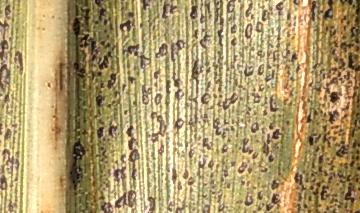tarspot: (69, 163, 87, 195), (169, 39, 185, 63), (150, 116, 167, 138), (71, 137, 86, 161), (126, 188, 138, 213), (221, 92, 238, 109), (121, 43, 140, 58), (216, 17, 225, 48), (140, 83, 152, 106), (13, 49, 24, 74), (137, 53, 152, 71), (113, 191, 128, 209), (154, 42, 169, 59), (70, 16, 81, 39), (1, 63, 10, 91), (211, 71, 223, 92), (322, 1, 334, 21), (198, 33, 212, 50), (201, 136, 215, 153), (241, 135, 252, 156), (267, 93, 278, 114), (211, 117, 223, 136), (326, 108, 340, 124), (190, 58, 200, 80), (308, 1, 318, 23), (145, 195, 157, 213), (126, 135, 139, 151), (171, 71, 183, 88), (1, 38, 9, 63), (215, 193, 225, 213), (318, 182, 328, 202), (344, 185, 355, 203), (5, 156, 19, 170), (270, 191, 283, 206), (236, 159, 248, 175), (319, 132, 331, 148), (264, 40, 274, 59), (106, 72, 117, 89), (196, 153, 207, 170), (243, 190, 254, 207), (338, 40, 355, 51), (119, 19, 133, 32), (127, 149, 141, 162), (125, 124, 137, 139), (199, 112, 211, 127), (7, 197, 18, 213), (108, 123, 119, 139), (345, 52, 354, 71), (243, 22, 253, 39), (275, 1, 285, 18), (249, 91, 262, 104), (335, 145, 348, 158), (130, 161, 138, 182), (3, 4, 13, 20), (100, 201, 113, 213), (272, 128, 284, 141), (327, 191, 339, 204), (243, 63, 254, 77), (329, 90, 340, 104), (174, 117, 183, 134), (83, 7, 91, 26), (2, 127, 12, 142), (189, 4, 199, 19), (119, 165, 129, 180), (261, 140, 271, 155), (1, 19, 9, 37), (215, 48, 224, 64), (245, 1, 254, 17), (321, 84, 330, 100), (225, 1, 236, 14), (1, 172, 8, 192), (254, 21, 264, 35), (250, 121, 260, 135), (193, 78, 201, 95), (112, 168, 121, 183), (348, 25, 357, 40), (170, 166, 177, 185), (275, 24, 282, 43), (140, 1, 152, 12), (200, 92, 211, 104), (168, 2, 178, 15), (207, 156, 215, 172), (94, 94, 103, 108), (154, 92, 163, 106), (260, 8, 269, 22), (299, 94, 306, 112), (269, 179, 280, 190), (162, 3, 170, 18), (96, 125, 104, 140), (173, 88, 183, 100), (187, 94, 199, 104), (174, 203, 186, 213), (264, 200, 274, 212), (305, 110, 313, 125), (344, 80, 352, 95), (217, 63, 226, 76), (220, 143, 229, 156), (181, 168, 190, 181), (4, 102, 12, 116), (89, 39, 96, 55), (164, 78, 171, 94), (87, 130, 95, 144), (337, 56, 345, 70), (1, 147, 11, 158), (255, 48, 265, 59), (341, 101, 351, 112), (326, 155, 336, 166), (267, 152, 276, 164), (81, 110, 88, 125), (353, 1, 360, 16), (203, 1, 211, 14), (257, 63, 265, 76), (187, 175, 197, 185), (126, 75, 137, 84), (186, 115, 195, 126), (229, 36, 238, 47), (174, 179, 183, 190), (256, 200, 265, 211), (313, 83, 322, 94), (328, 76, 339, 85), (342, 69, 351, 80), (212, 6, 218, 22), (276, 161, 282, 177), (157, 143, 164, 156), (264, 131, 271, 144), (295, 190, 302, 203), (97, 6, 106, 16), (152, 69, 161, 79), (198, 14, 207, 24), (229, 159, 238, 169), (258, 165, 268, 174), (291, 1, 300, 11), (148, 136, 159, 144), (230, 24, 238, 35), (187, 148, 195, 159), (213, 162, 221, 173), (256, 190, 264, 201), (289, 51, 297, 62), (288, 86, 296, 97), (347, 158, 355, 169), (88, 69, 95, 81), (72, 60, 79, 72), (119, 152, 126, 164), (294, 62, 301, 74), (148, 150, 155, 162), (80, 32, 89, 41), (221, 168, 230, 177), (234, 197, 243, 206), (210, 61, 218, 71), (103, 178, 111, 188), (202, 203, 210, 213), (320, 123, 328, 133), (336, 171, 346, 179), (95, 117, 105, 125), (271, 49, 277, 62), (293, 171, 299, 184), (350, 126, 356, 139), (204, 80, 211, 91), (192, 28, 199, 39), (91, 193, 98, 204), (281, 96, 288, 107), (339, 14, 346, 25), (331, 37, 338, 48), (338, 112, 349, 119), (218, 1, 223, 16), (130, 98, 138, 107), (149, 110, 157, 119), (236, 1, 244, 10), (256, 2, 265, 10), (221, 117, 230, 125), (97, 194, 106, 202), (164, 205, 173, 213), (263, 73, 271, 82), (311, 108, 319, 117), (311, 61, 319, 70), (326, 67, 332, 79), (340, 33, 348, 42), (354, 91, 360, 103), (314, 132, 320, 144), (338, 138, 347, 146), (235, 61, 244, 69), (77, 67, 87, 74), (120, 82, 127, 92), (257, 83, 264, 93), (229, 124, 236, 134), (267, 121, 274, 131), (271, 67, 276, 81), (284, 27, 291, 37), (76, 73, 87, 79), (80, 78, 86, 89), (307, 135, 313, 146), (294, 202, 300, 213), (309, 159, 315, 170), (317, 153, 323, 164), (328, 124, 339, 130), (122, 108, 130, 116), (95, 108, 103, 116), (175, 140, 183, 148), (100, 151, 108, 159), (337, 131, 345, 139), (103, 55, 110, 64), (126, 10, 135, 17), (81, 128, 88, 137), (225, 181, 232, 190), (260, 125, 267, 134), (265, 62, 272, 71), (307, 78, 314, 87), (343, 93, 352, 100), (93, 1, 105, 6), (263, 94, 268, 106), (327, 28, 333, 38), (298, 173, 303, 185), (306, 194, 312, 204), (345, 173, 351, 183), (89, 53, 96, 61), (105, 101, 112, 109), (215, 98, 222, 106), (251, 151, 258, 159), (283, 118, 290, 126), (314, 180, 321, 188), (336, 160, 343, 168), (286, 8, 291, 19), (46, 81, 52, 90), (3, 93, 9, 102), (83, 40, 89, 49), (97, 55, 103, 64), (97, 62, 103, 71), (99, 81, 105, 90), (232, 53, 238, 62), (188, 185, 194, 194), (199, 192, 208, 198), (246, 166, 252, 175), (81, 98, 87, 107), (88, 144, 94, 153), (284, 49, 290, 58), (305, 95, 311, 104), (354, 43, 360, 52), (354, 64, 360, 73), (316, 164, 322, 173), (322, 168, 328, 177), (323, 203, 332, 209), (14, 148, 19, 158), (93, 85, 98, 95), (320, 71, 325, 81), (320, 143, 325, 153), (343, 161, 348, 171), (10, 122, 17, 129), (95, 69, 102, 76), (203, 60, 210, 67), (208, 178, 215, 185), (202, 181, 209, 188), (83, 146, 90, 153), (337, 126, 344, 133), (313, 145, 320, 152), (326, 174, 333, 181), (353, 176, 360, 183), (13, 175, 19, 183), (50, 125, 56, 133), (102, 61, 108, 69), (138, 21, 144, 29), (152, 80, 158, 88), (249, 13, 255, 21), (225, 136, 231, 144), (219, 175, 225, 183), (244, 180, 250, 188), (285, 20, 291, 28), (287, 99, 293, 107), (338, 76, 344, 84), (341, 24, 347, 32), (329, 47, 335, 55), (308, 184, 314, 192), (351, 118, 357, 126), (331, 129, 339, 135), (330, 135, 338, 141), (332, 141, 340, 147), (338, 178, 346, 184), (329, 207, 337, 213), (352, 207, 360, 213), (8, 181, 13, 190), (113, 90, 118, 99), (164, 131, 169, 140), (183, 139, 188, 148), (262, 107, 267, 116), (283, 82, 288, 91), (332, 28, 337, 37), (6, 169, 12, 176), (51, 113, 57, 120), (110, 44, 116, 51), (106, 50, 112, 57), (108, 23, 114, 30), (205, 67, 211, 74), (236, 83, 242, 90), (250, 86, 257, 92), (245, 104, 251, 111), (243, 109, 249, 116), (223, 126, 229, 133), (88, 202, 94, 209), (97, 169, 104, 175), (90, 181, 96, 188), (208, 184, 215, 190), (239, 179, 245, 186), (164, 167, 171, 173), (291, 20, 297, 27), (288, 75, 295, 81), (283, 63, 290, 69), (285, 69, 291, 76), (274, 62, 280, 69), (354, 27, 360, 34), (309, 177, 316, 183), (333, 180, 339, 187), (316, 201, 322, 208), (341, 202, 347, 209), (346, 206, 352, 213), (247, 45, 253, 52), (241, 44, 247, 51), (105, 40, 110, 48), (80, 208, 88, 213), (323, 24, 328, 32), (331, 65, 336, 73), (312, 186, 317, 194), (355, 164, 360, 172), (356, 184, 360, 194), (50, 103, 56, 109), (93, 19, 99, 25), (97, 15, 103, 21), (105, 33, 111, 39), (99, 145, 105, 151), (206, 13, 212, 19), (201, 27, 207, 33), (238, 95, 244, 101), (112, 159, 118, 165), (208, 173, 214, 179), (209, 190, 215, 196), (97, 88, 103, 94), (292, 14, 298, 20), (338, 1, 347, 5), (354, 112, 360, 118), (350, 140, 354, 149), (354, 148, 360, 154), (349, 153, 355, 159), (336, 184, 342, 190), (99, 39, 104, 46), (212, 92, 217, 99), (220, 131, 225, 138), (93, 153, 100, 158), (86, 177, 93, 182), (346, 1, 353, 6), (336, 69, 341, 76), (328, 24, 335, 29), (332, 56, 337, 63), (302, 202, 307, 209), (304, 177, 309, 184), (103, 17, 107, 25), (356, 80, 360, 88), (50, 14, 56, 19), (41, 26, 47, 31), (1, 163, 4, 173), (110, 99, 115, 105), (217, 93, 223, 98), (241, 86, 246, 92), (98, 182, 103, 188), (250, 208, 256, 213), (290, 35, 295, 41), (318, 8, 323, 14), (274, 144, 279, 150), (355, 103, 360, 109), (340, 119, 345, 125), (355, 124, 360, 130), (355, 154, 360, 160), (1, 155, 5, 162), (86, 84, 90, 91), (319, 108, 323, 115), (322, 110, 326, 117), (336, 202, 340, 209), (1, 122, 3, 135), (41, 13, 46, 18), (199, 2, 204, 7), (214, 1, 219, 6), (309, 172, 314, 177), (315, 121, 320, 126), (325, 156, 330, 161), (78, 42, 82, 48), (345, 19, 349, 25), (356, 141, 360, 147), (321, 209, 327, 213), (237, 145, 241, 151), (3, 1, 10, 4), (306, 208, 310, 213), (356, 119, 360, 124), (1, 102, 4, 108), (13, 129, 16, 135), (1, 8, 3, 15), (1, 91, 3, 98), (103, 28, 106, 32), (352, 4, 355, 7)
